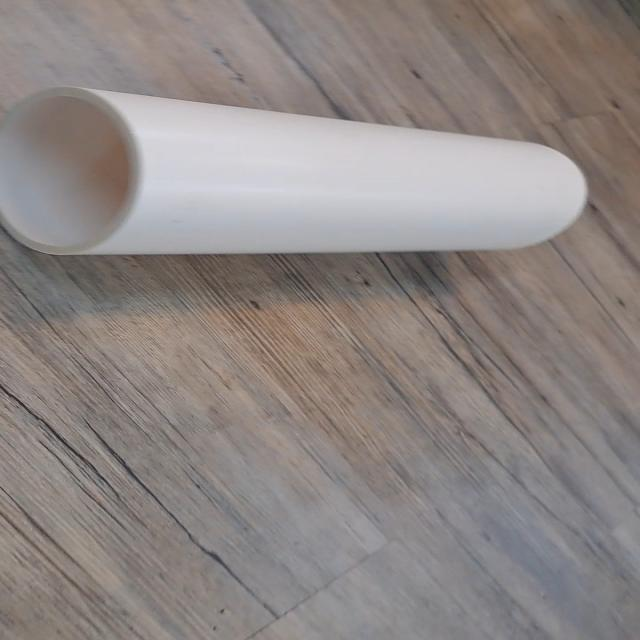CORAL: (0, 88, 592, 262)
